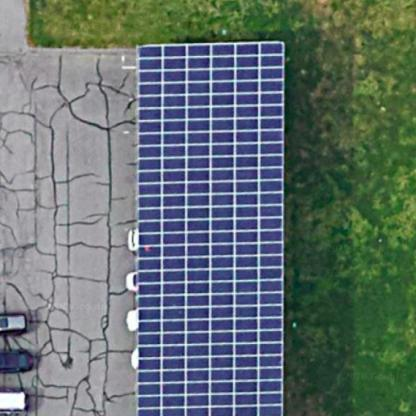car: (1, 347, 36, 382), (2, 312, 34, 340), (1, 384, 28, 415)
solar_panel: (125, 32, 296, 416)
